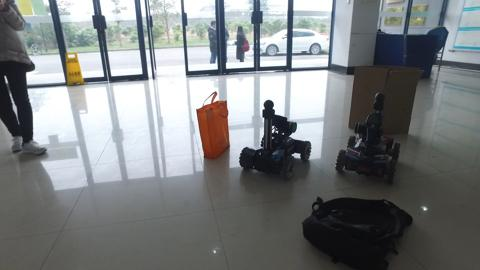bag: (303, 190, 418, 268), (198, 96, 235, 159)
chariot: (337, 92, 408, 183), (241, 100, 310, 179)
